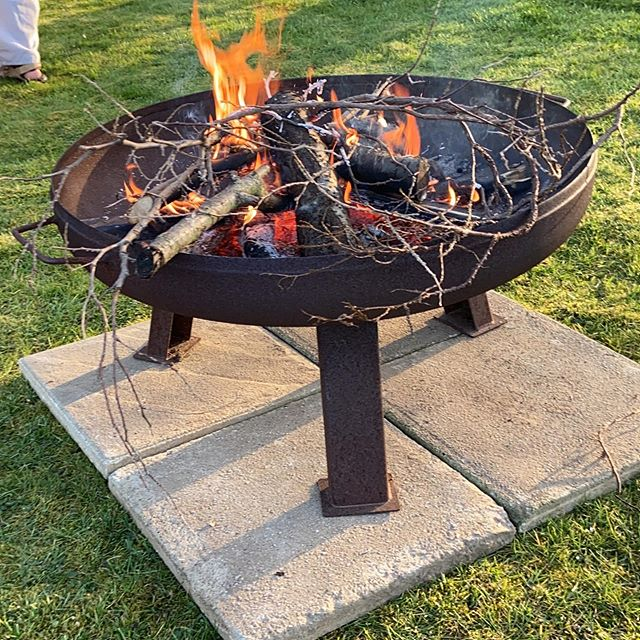fireplace: (53, 56, 566, 288)
